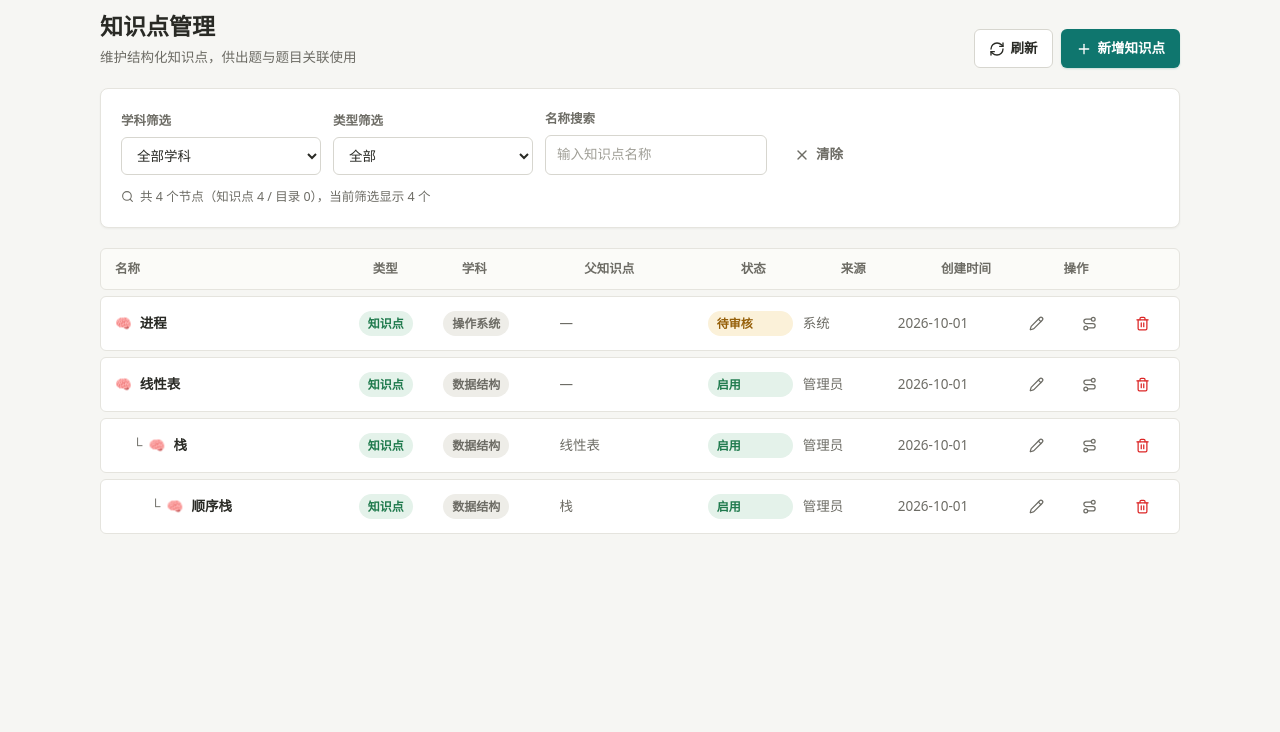
it: AdminKnowledgePointsView › 已被题目关联时展示后端中文错误
The image size is (1280, 732).
What coordinates should you click on to do the following:
click the 3rd button titled "删除"
I would click on:
 (1142, 445)
Its box is [1120,429,1165,462].
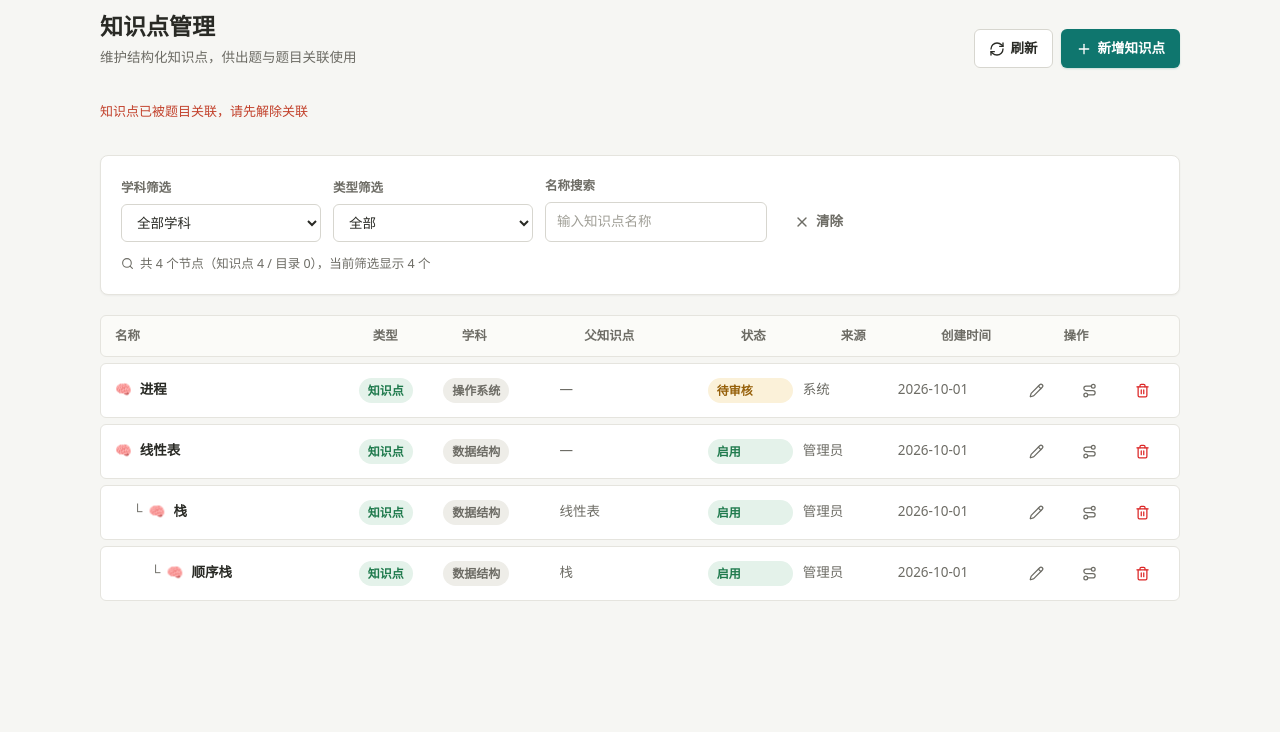
Expected: the text "知识点已被题目关联，请先解除关联" is shown, [100,102,308,120]
